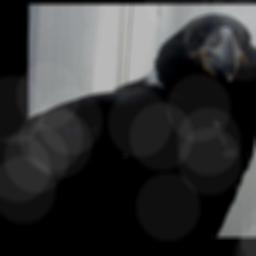Crow: (29, 12, 256, 237)
